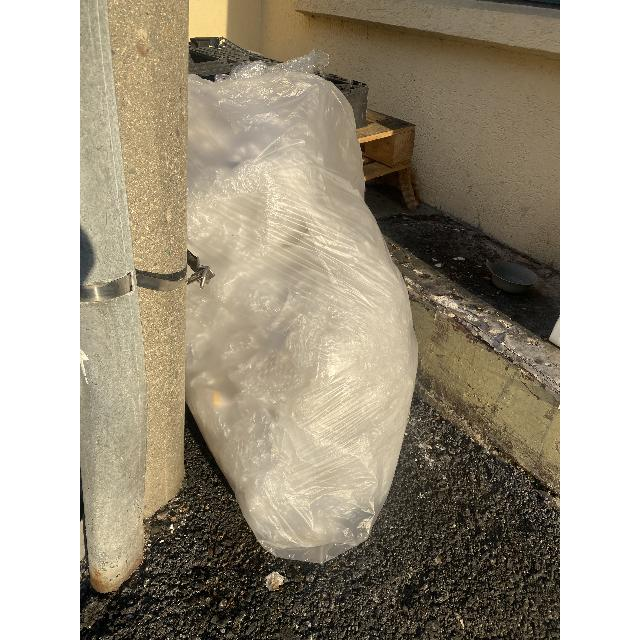other_trashbag: (186, 61, 418, 562)
